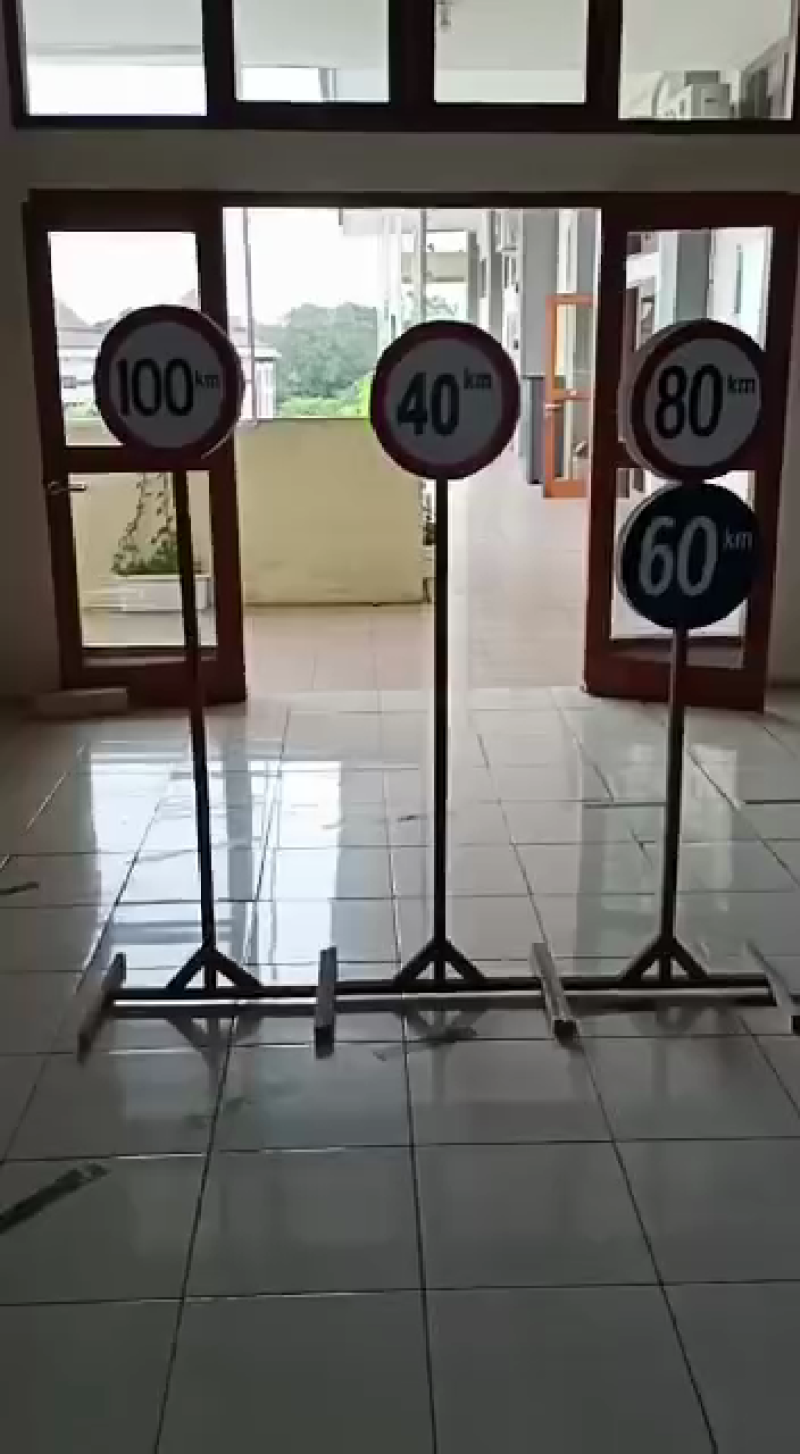batas maksimal 100kmperjam: (79, 301, 259, 472)
batas maksimal 40kmperjam: (361, 314, 533, 494)
batas maksimal 80kmperjam minimal 60kmperjam: (613, 307, 785, 653)
